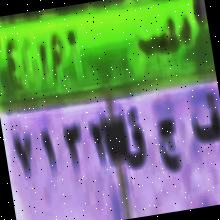1: (36, 123, 64, 190)
2: (82, 110, 115, 175)
3: (56, 112, 90, 184)
7: (10, 127, 40, 188)
faa: (184, 87, 220, 159)
jeem: (150, 109, 187, 189)
qaaf: (115, 108, 154, 180)
